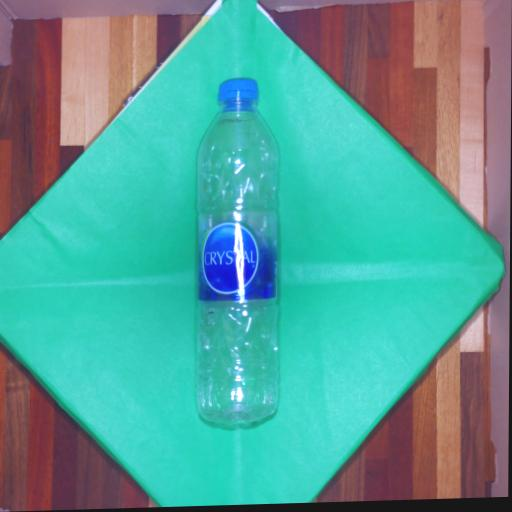bottle: (193, 75, 284, 429)
